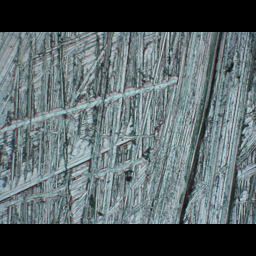d: (2, 32, 256, 223)
